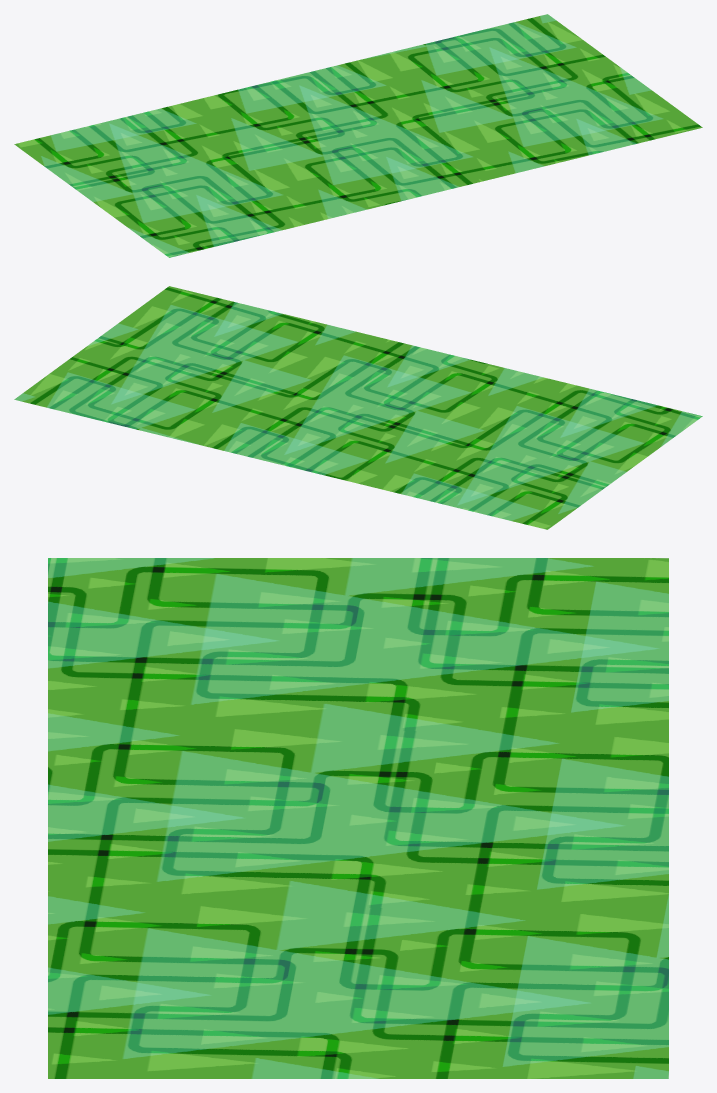
Rendered from ground_new_1.obj.
3 renders of one model, top to bottom at view 1: azimuth 30°, elevation 25°; view 2: azimuth 150°, elevation 25°; view 3: azimuth 270°, elevation 25°, orthographic. The views are drawn at different scales.
Parts seen in each view (by area): view 1: Ground; view 2: Ground; view 3: Ground.
Boxes of the visible parts, <box> form: Ground: <box>14,14,702,257</box>; Ground: <box>14,286,702,529</box>; Ground: <box>48,558,668,1078</box>.
Bounding box in the file's own units: 670 × 0 × 338.
1 material, 1 textured.
